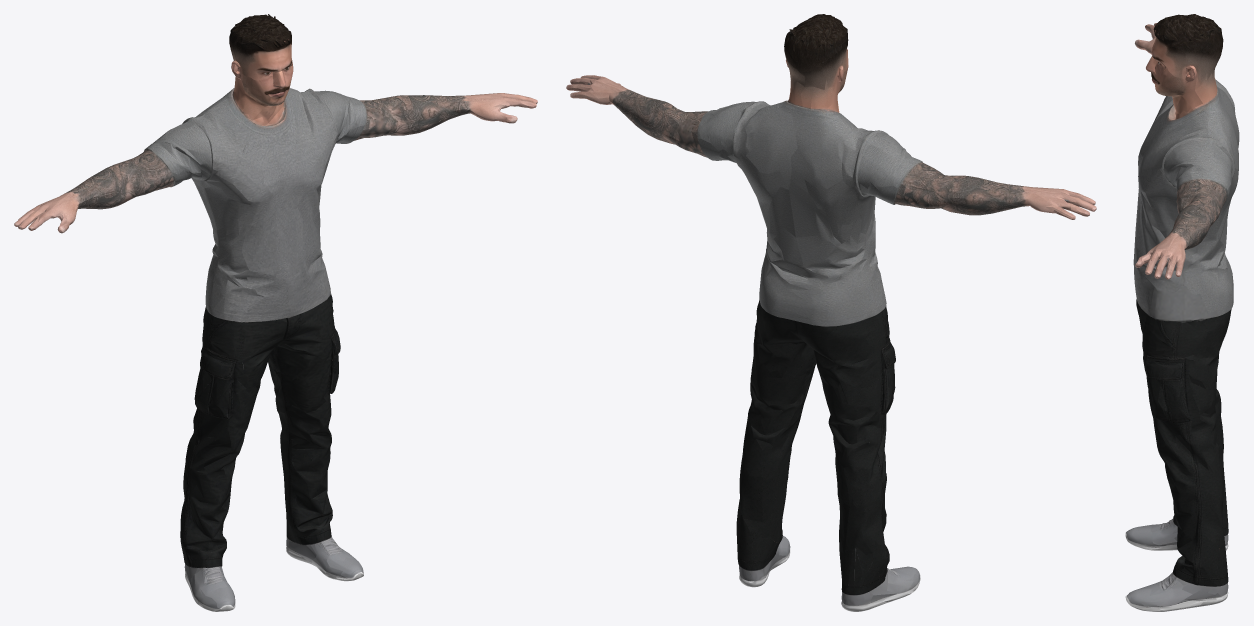
The model's file is image3d.glb.
3 views of the same model, side by side, from view 1: azimuth 30°, elevation 25°; view 2: azimuth 150°, elevation 25°; view 3: azimuth 270°, elevation 25° (orthographic).
Visible parts, largest first — view 1: Mesh_0; view 2: Mesh_0; view 3: Mesh_0.
Boxes of the visible parts, x1,y1,x2,y2 form: Mesh_0: (14,14,537,611); Mesh_0: (566,14,1096,611); Mesh_0: (1125,14,1239,611).
Bounding box in the file's own units: 1.85 × 1.9 × 0.3513.
1 material, 1 textured.
